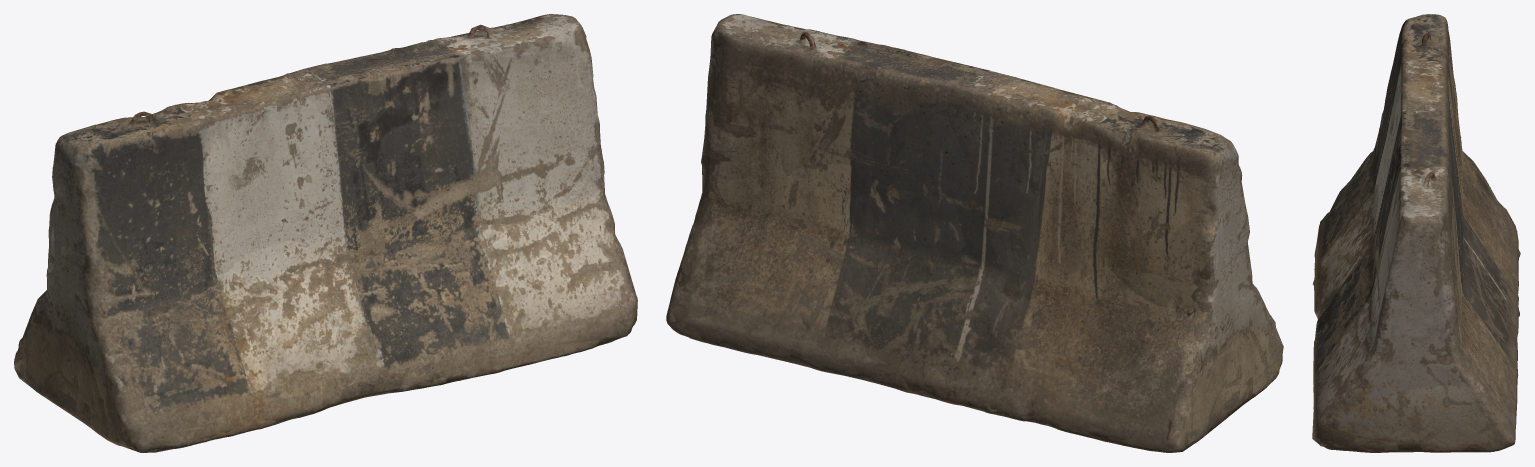
The model's file is barrier_wall.glb.
The picture shows the model from 3 angles, left to right: view 1: azimuth 30°, elevation 25°; view 2: azimuth 150°, elevation 25°; view 3: azimuth 270°, elevation 25°; orthographic projection. The views are drawn at different scales.
Parts seen in each view (by area): view 1: barrier_wall; view 2: barrier_wall; view 3: barrier_wall.
Part boxes in pixels (x1,y1,x2,y2): barrier_wall: (14, 14, 637, 452); barrier_wall: (666, 14, 1283, 452); barrier_wall: (1312, 14, 1520, 452).
Size of the model in its own units: 1.94 by 1.05 by 0.8057.
Materials: 1 (1 with a texture image).
